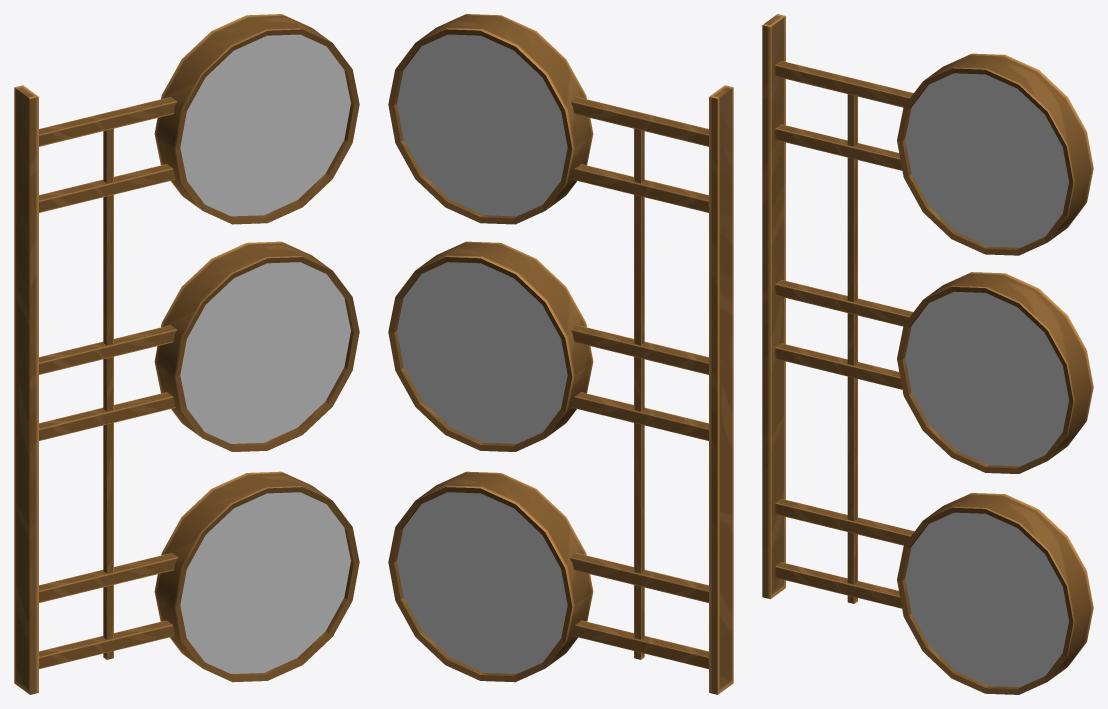
Rendered from jiedao_BJ_023.fbx.
The picture shows the model from 3 angles, left to right: view 1: azimuth 30°, elevation 25°; view 2: azimuth 150°, elevation 25°; view 3: azimuth 330°, elevation 25°; orthographic projection. The views are drawn at different scales.
Visible parts, largest first — view 1: BJ023; view 2: BJ023; view 3: BJ023.
Boxes of the visible parts, left/top/right/bottom form: BJ023: left=14, top=14, right=359, bottom=694; BJ023: left=388, top=14, right=733, bottom=694; BJ023: left=762, top=14, right=1093, bottom=694.
Bounding box in the file's own units: 150 × 16.71 × 285.
